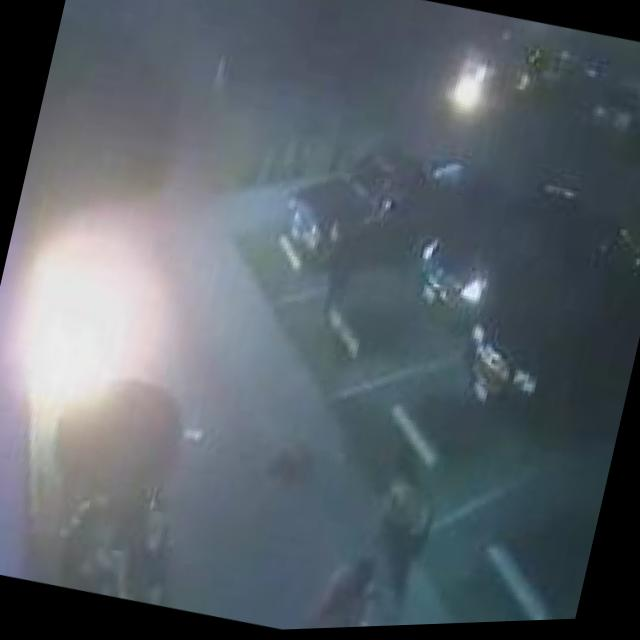fire: (0, 214, 193, 453), (434, 59, 506, 133)
